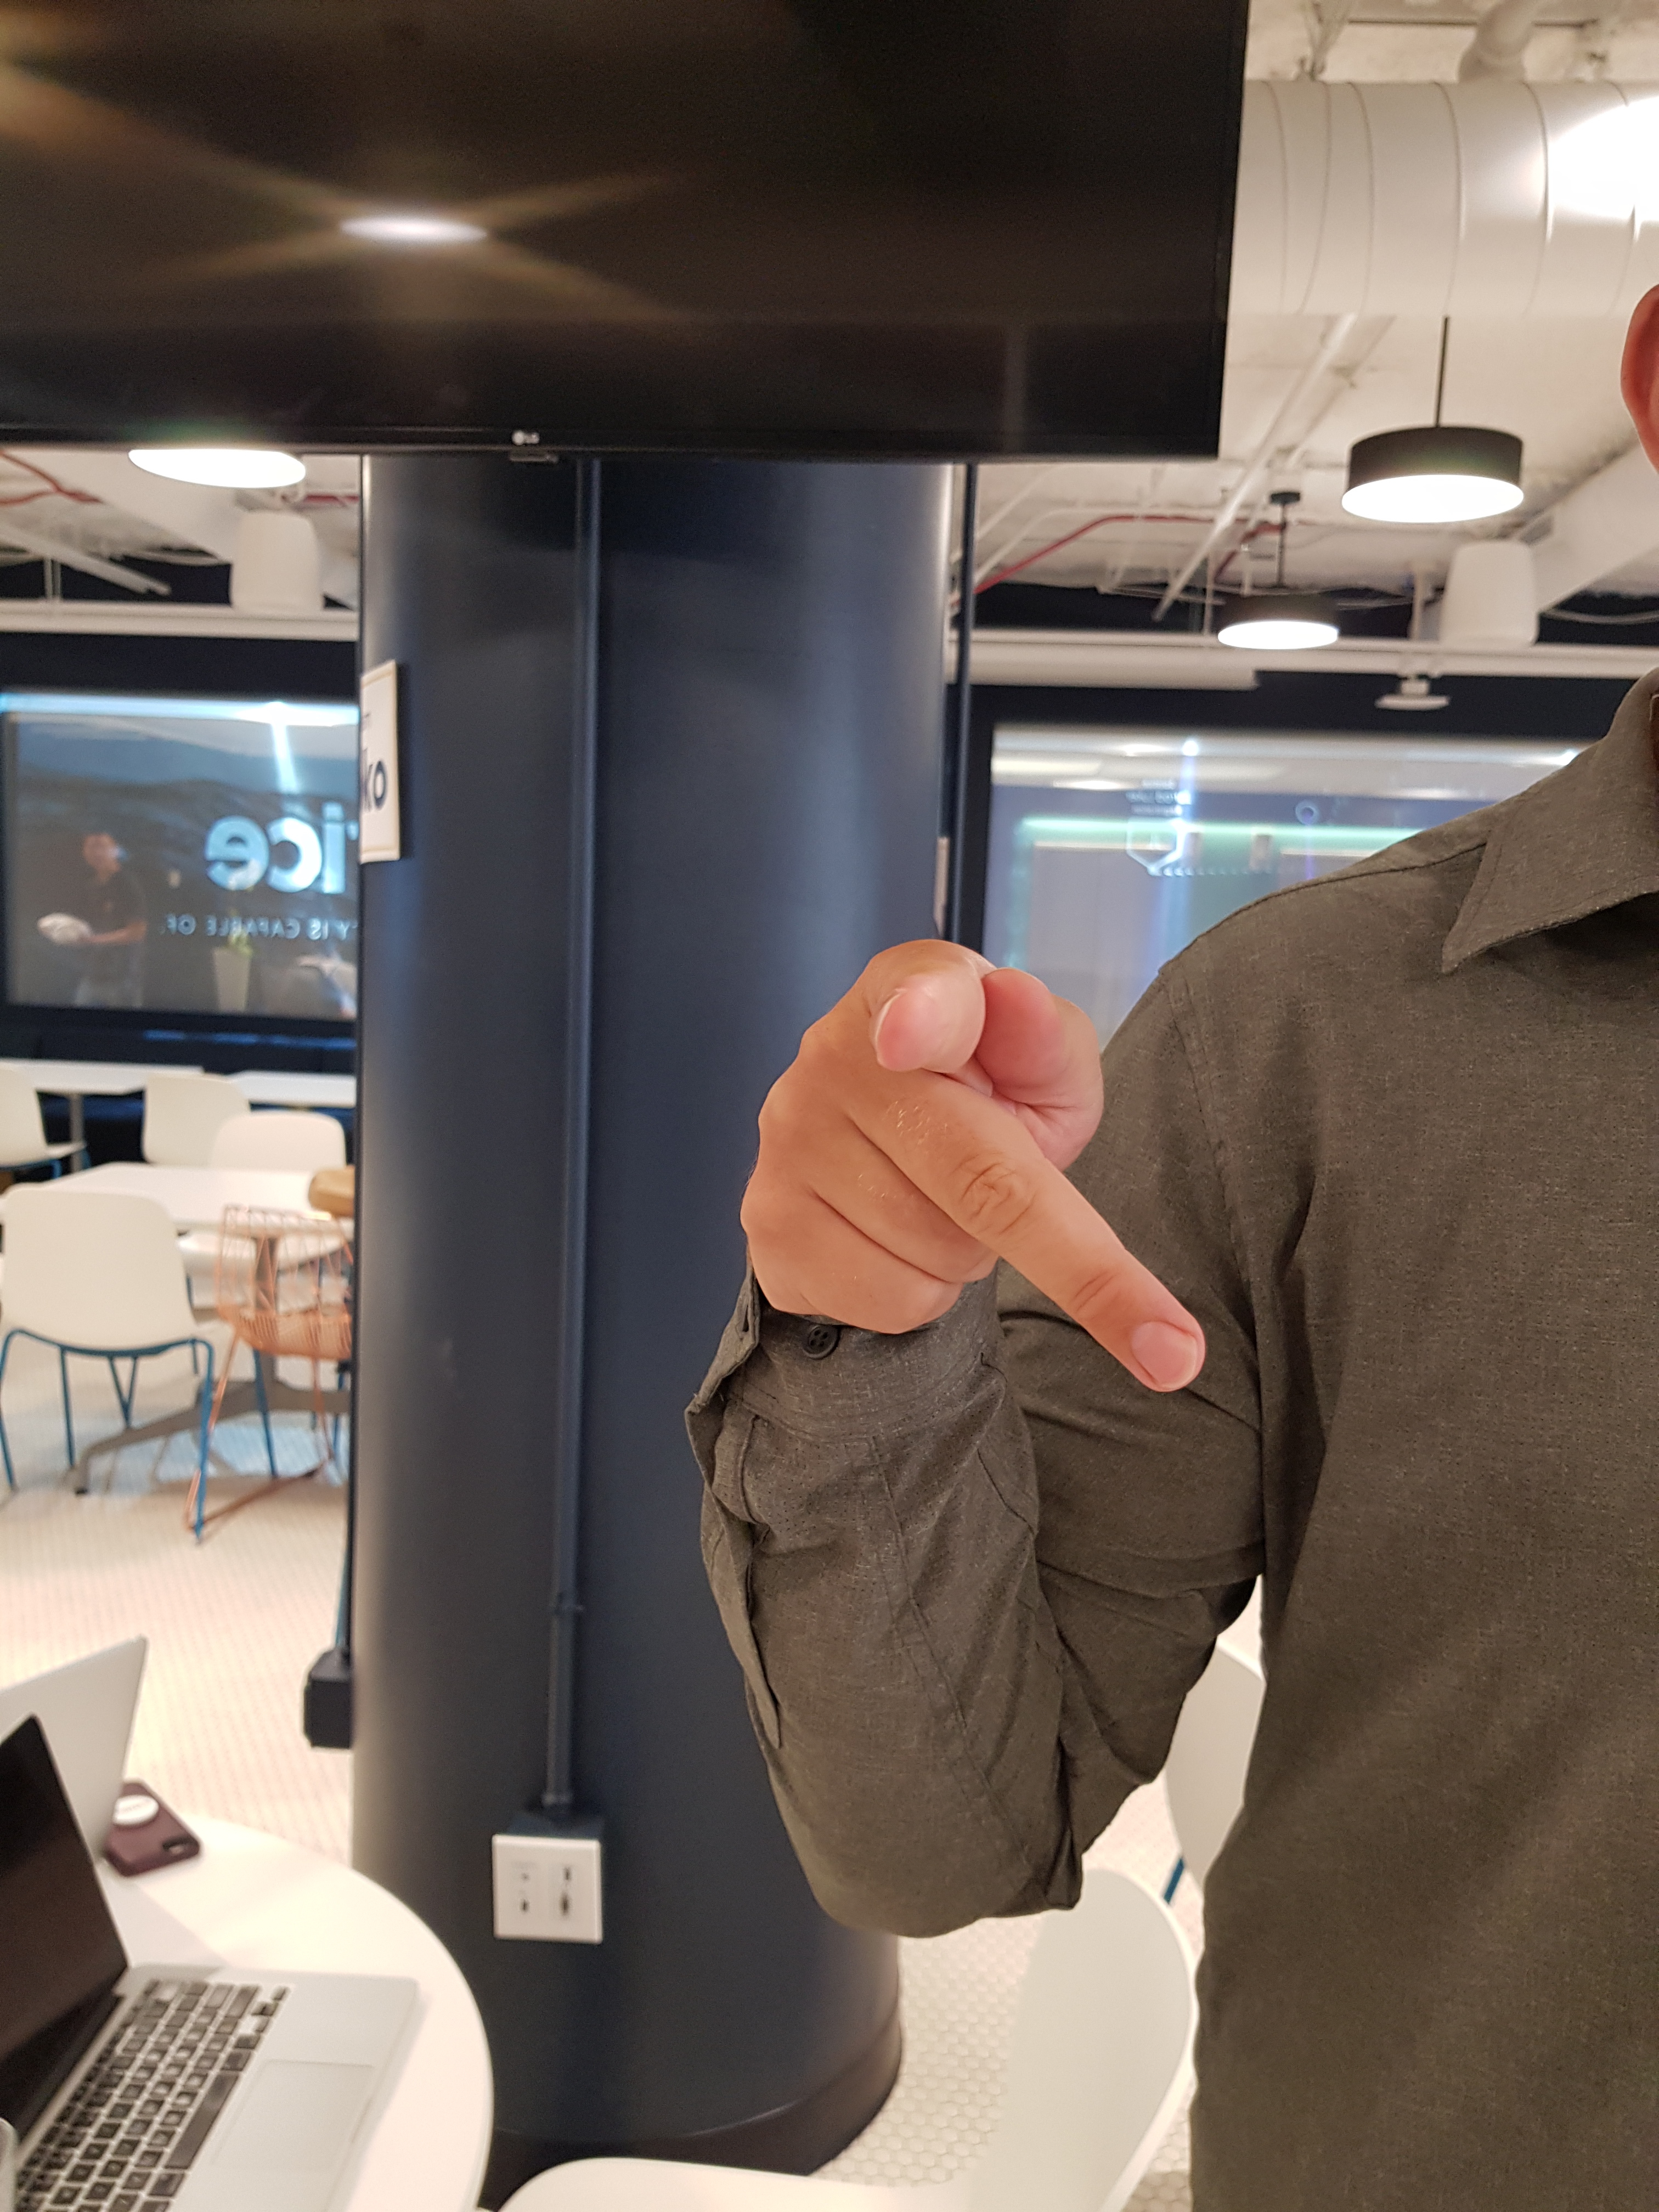p: (695, 906, 1236, 1432)
